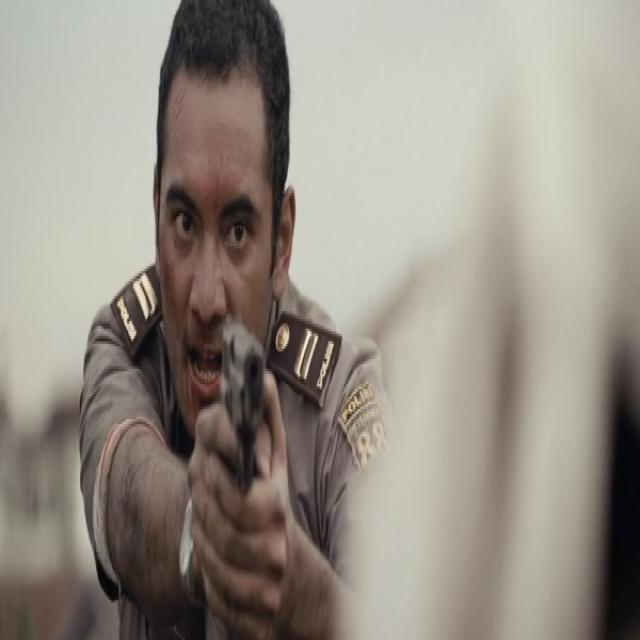weapons: (207, 276, 279, 587)
